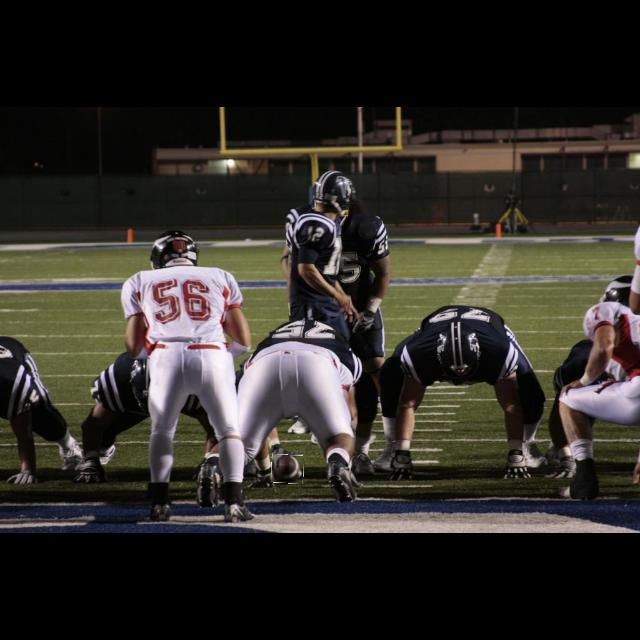Football: (272, 454, 304, 484)
